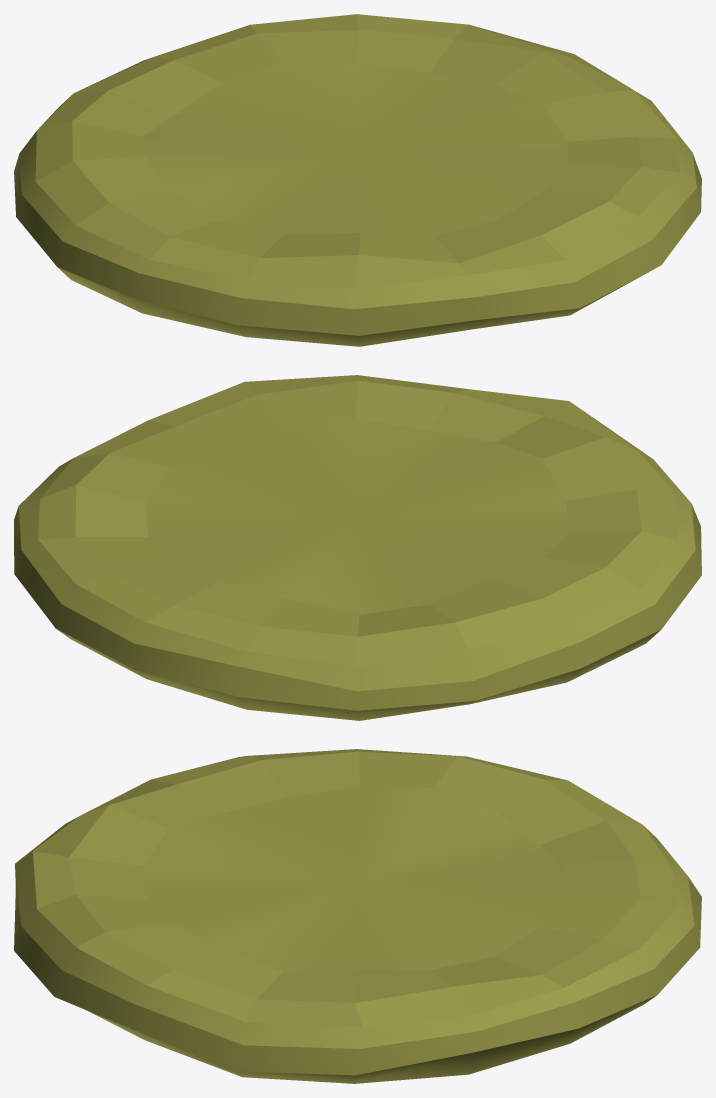
File: pancake.fbx
3 renders of one model, top to bottom at view 1: azimuth 30°, elevation 25°; view 2: azimuth 150°, elevation 25°; view 3: azimuth 270°, elevation 25°, orthographic.
Parts seen in each view (by area): view 1: pancake; view 2: pancake; view 3: pancake.
Boxes of the visible parts, <box> form: pancake: <box>14,14,701,346</box>; pancake: <box>14,375,701,720</box>; pancake: <box>14,749,701,1083</box>.
Size of the model in its own units: 6 by 0.7816 by 5.92.
